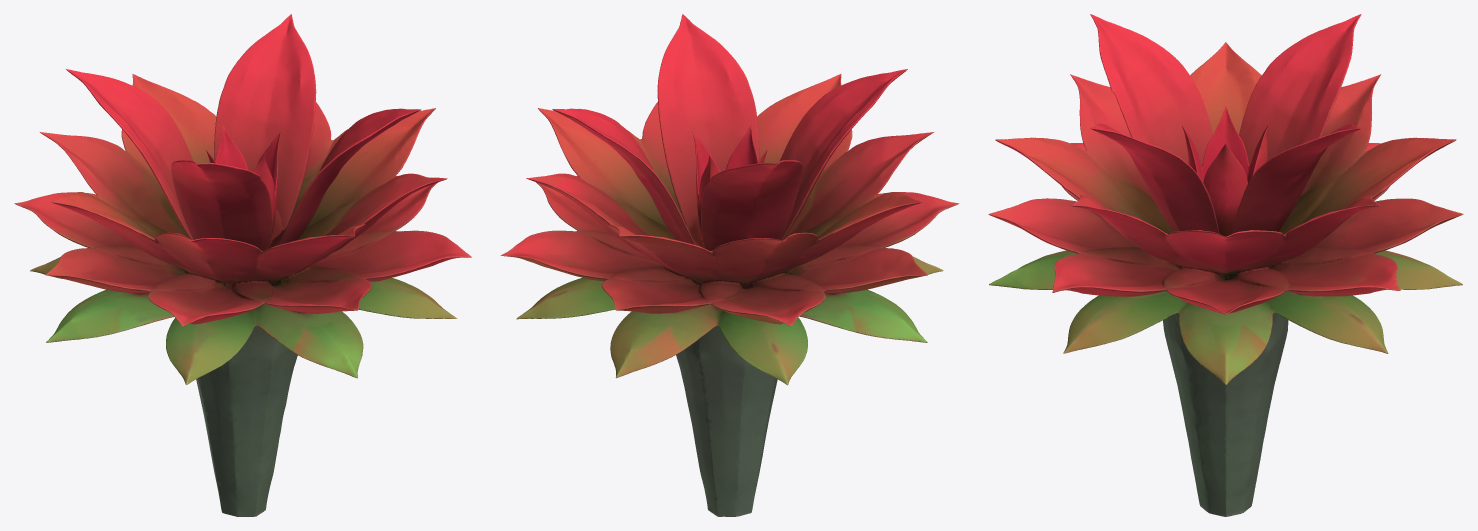
File: mata_bromelia.glb
3 views of the same model, side by side, from view 1: azimuth 30°, elevation 25°; view 2: azimuth 150°, elevation 25°; view 3: azimuth 270°, elevation 25° (orthographic). The views are drawn at different scales.
Size of the model in its own units: 1.88 by 1.9 by 1.88.
Materials: 1 (1 with a texture image).
